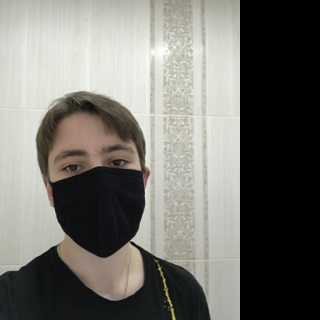with_mask: (51, 128, 146, 258)
